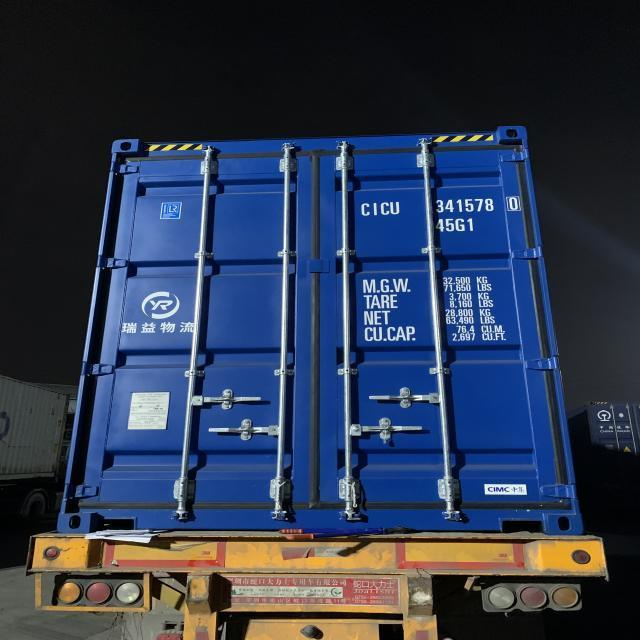ISO: (439, 216, 475, 234)
container_number: (356, 196, 522, 216), (431, 198, 515, 215)
